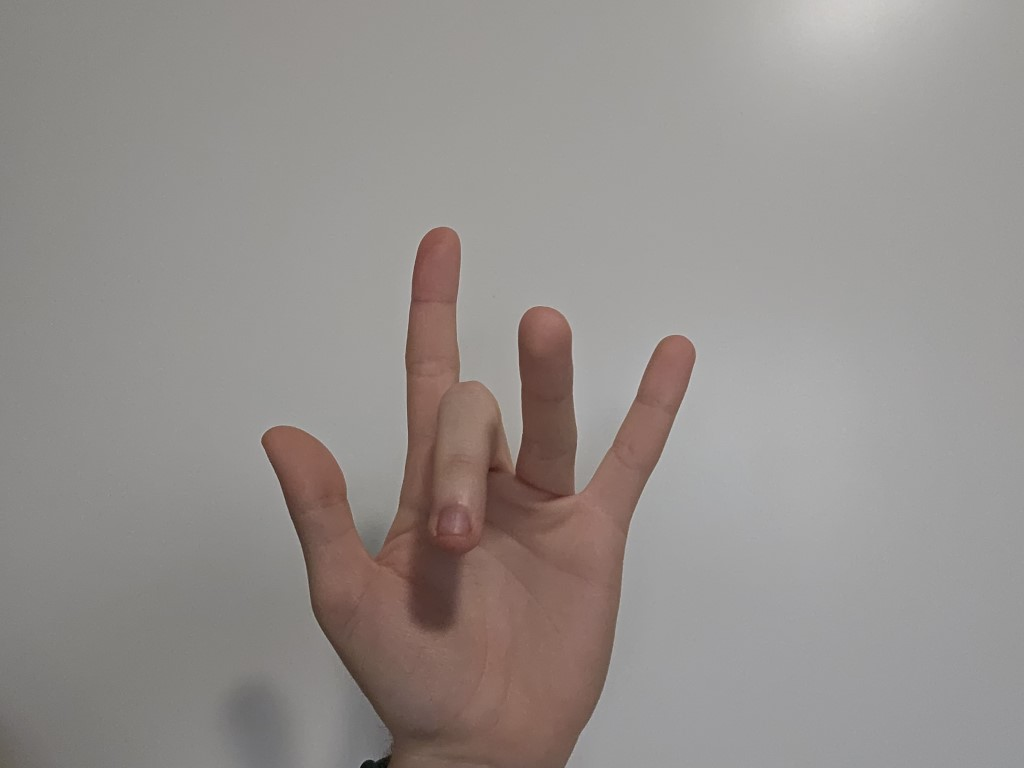reset: (212, 215, 728, 753)
